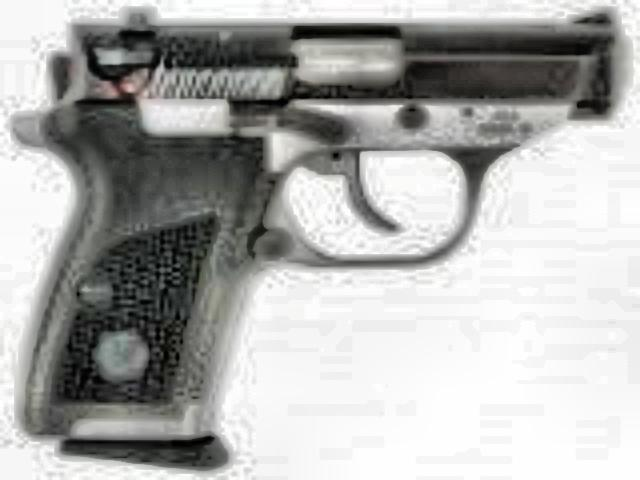pistol: (8, 0, 616, 448)
